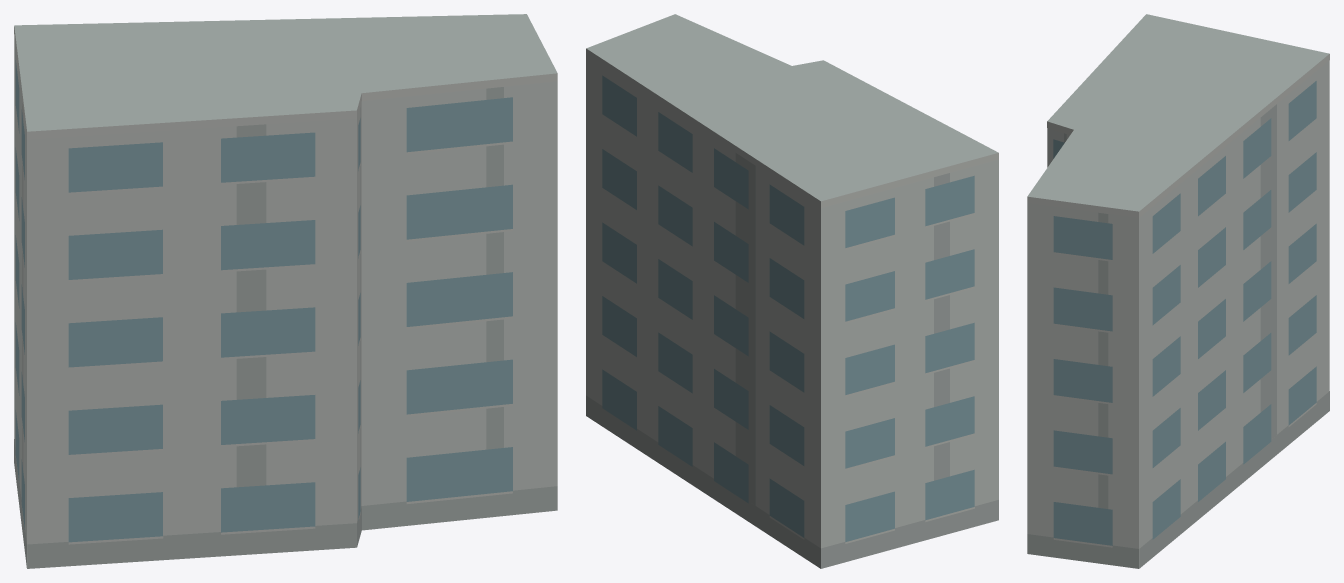
The model's file is survey-upis-33043999.glb.
The picture shows the model from 3 angles, left to right: view 1: azimuth 30°, elevation 25°; view 2: azimuth 150°, elevation 25°; view 3: azimuth 270°, elevation 25°; orthographic projection. The views are drawn at different scales.
Visible parts, largest first — view 1: survey-upis-33043999.tmp; view 2: survey-upis-33043999.tmp; view 3: survey-upis-33043999.tmp.
Boxes of the visible parts, x1,y1,x2,y2 form: survey-upis-33043999.tmp: (14, 14, 557, 568); survey-upis-33043999.tmp: (586, 14, 998, 568); survey-upis-33043999.tmp: (1027, 14, 1329, 568).
Bounding box in the file's own units: 15.66 × 13.2 × 10.14.
